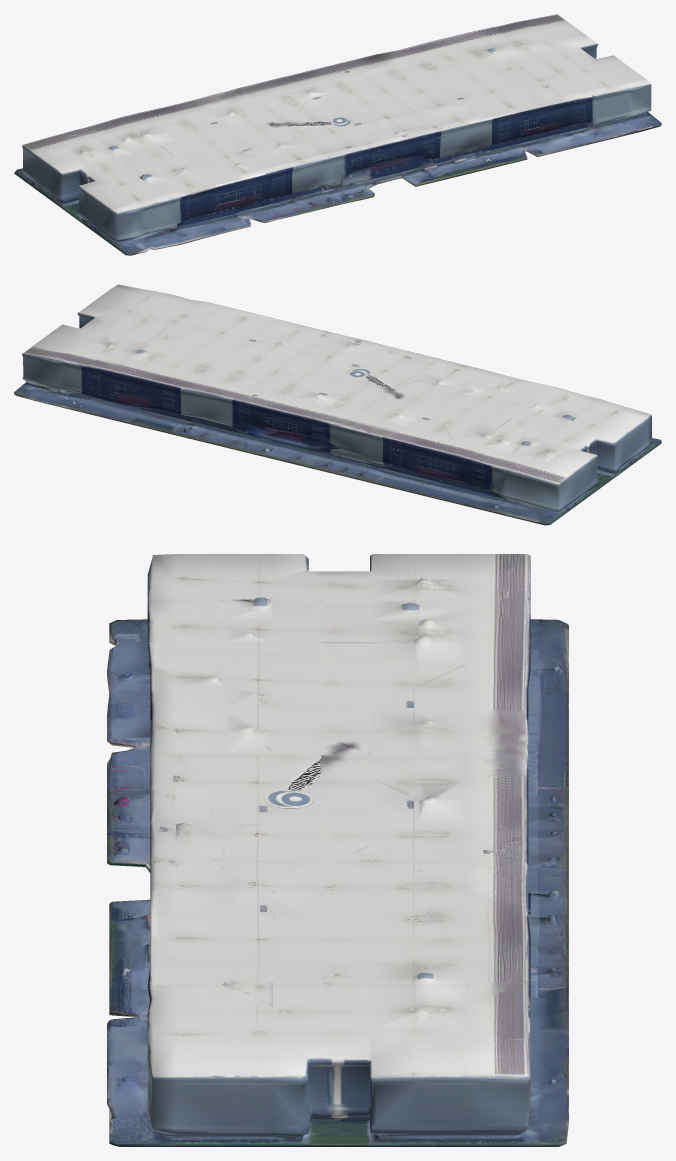
The model's file is Meshy_AI_Geodis_Logistics_0313200133_texture.fbx.
3 views of the same model, one above another, from view 1: azimuth 30°, elevation 25°; view 2: azimuth 150°, elevation 25°; view 3: azimuth 270°, elevation 25° (orthographic). The views are drawn at different scales.
Visible parts, largest first — view 1: Mesh_0; view 2: Mesh_0; view 3: Mesh_0.
Part boxes in pixels (x1,y1,x2,y2): Mesh_0: [14, 14, 661, 255]; Mesh_0: [14, 284, 661, 525]; Mesh_0: [107, 554, 568, 1146].
Bounding box in the file's own units: 191 × 14.09 × 70.84.
1 material, 1 textured.
